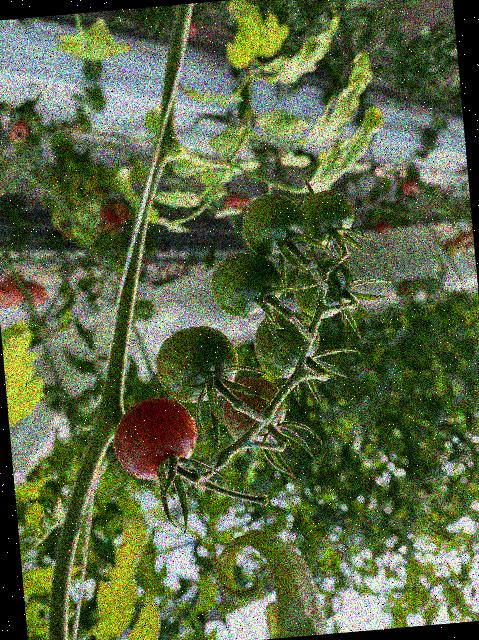l_fully_ripened: (109, 393, 202, 483)
l_green: (151, 322, 241, 406), (208, 249, 285, 320), (251, 306, 323, 380), (239, 190, 310, 262), (290, 254, 357, 320), (299, 188, 356, 247)
l_half_ripened: (220, 373, 289, 445)
